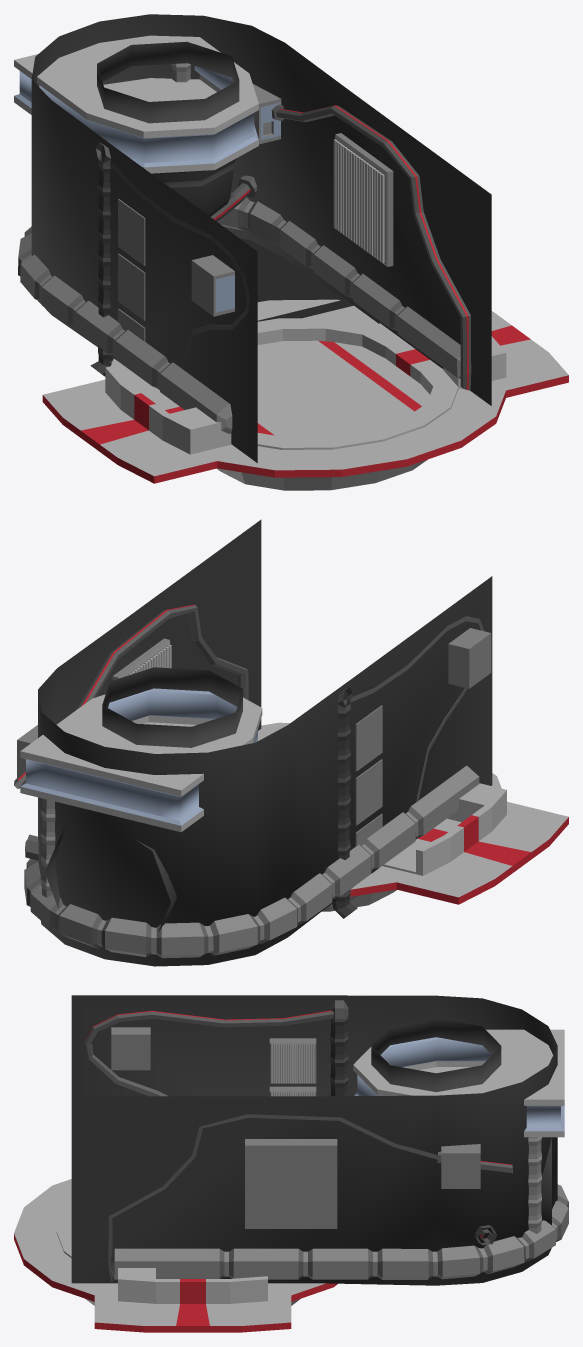
Rendered from pipeDoor00.glb.
3 renders of one model, top to bottom at view 1: azimuth 30°, elevation 25°; view 2: azimuth 150°, elevation 25°; view 3: azimuth 270°, elevation 25°, orthographic. The views are drawn at different scales.
Parts seen in each view (by area): view 1: doorFlat, doorFront.001, doorBack.001; view 2: doorFlat; view 3: doorFlat.
Boxes of the visible parts, x1,y1,x2,y2 form: doorFlat: (14, 14, 568, 490); doorFront.001: (257, 371, 429, 437); doorBack.001: (257, 340, 402, 406); doorFlat: (14, 519, 568, 966); doorFlat: (14, 995, 568, 1332).
Size of the model in its own units: 3.62 by 2.09 by 4.57.
1 material, 1 textured.
